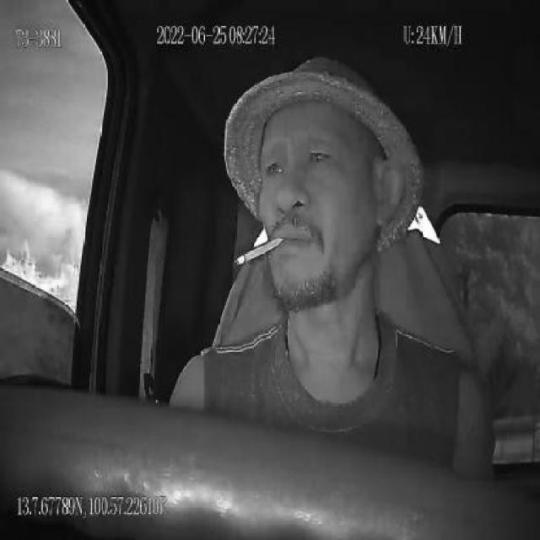smoking: (234, 235, 284, 266)
